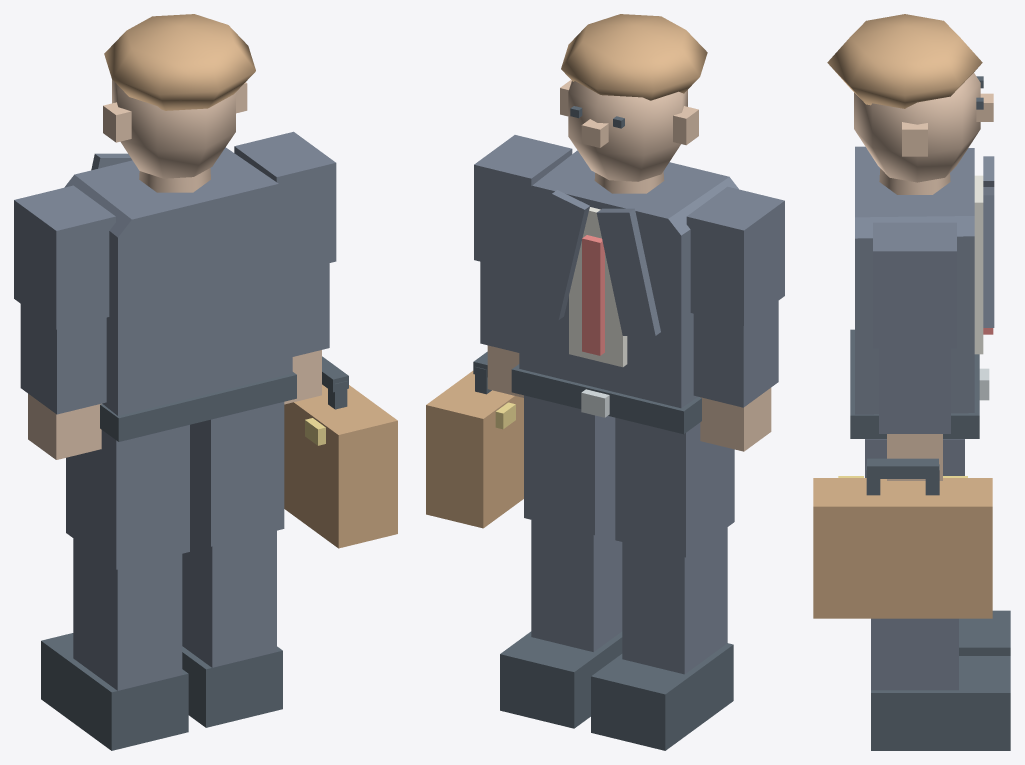
The model's file is ped_business.glb.
The picture shows the model from 3 angles, left to right: view 1: azimuth 30°, elevation 25°; view 2: azimuth 150°, elevation 25°; view 3: azimuth 270°, elevation 25°; orthographic projection. The views are drawn at different scales.
Visible parts, largest first — view 1: Torso_Mesh, Thigh (×2), Lower_Leg (×2), Upper_Arm (×2), Shoe (×2), Leather_Case, Hair, Sleeve (×2), Face, Belt, Hand (×2), Neck (+1 smaller); view 2: Thigh (×2), Lower_Leg (×2), Torso_Mesh, Upper_Arm (×2), Shoe (×2), Leather_Case, Sleeve (×2), Jacket_Lapel (×2), Hair, Face, Hand (×2), Belt (+6 smaller); view 3: Leather_Case, Torso_Mesh, Shoe (×2), Upper_Arm, Hair, Face, Lower_Leg, Sleeve, Belt, Jacket_Lapel (×2), White_Shirt, Hand (+6 smaller).
Part boxes in pixels (bbox=[...]): Torso_Mesh: bbox=[64, 147, 292, 415]; Thigh (×2): bbox=[66, 402, 284, 569]; Lower_Leg (×2): bbox=[73, 530, 276, 690]; Upper_Arm (×2): bbox=[14, 131, 336, 329]; Shoe (×2): bbox=[41, 633, 282, 750]; Leather_Case: bbox=[284, 384, 397, 548]; Hair: bbox=[104, 14, 255, 110]; Sleeve (×2): bbox=[20, 263, 329, 414]; Face: bbox=[112, 79, 235, 178]; Belt: bbox=[100, 372, 296, 441]; Hand (×2): bbox=[28, 350, 321, 459]; Neck: bbox=[139, 168, 210, 192]; Thigh (×2): bbox=[524, 395, 734, 557]; Lower_Leg (×2): bbox=[531, 520, 727, 674]; Torso_Mesh: bbox=[519, 150, 738, 408]; Upper_Arm (×2): bbox=[474, 135, 784, 325]; Shoe (×2): bbox=[500, 631, 733, 750]; Leather_Case: bbox=[426, 371, 523, 528]; Sleeve (×2): bbox=[480, 261, 778, 407]; Jacket_Lapel (×2): bbox=[526, 190, 660, 335]; Hair: bbox=[561, 14, 707, 100]; Face: bbox=[568, 81, 687, 181]; Hand (×2): bbox=[487, 345, 771, 451]; Belt: bbox=[511, 364, 701, 434]; Leather_Case: bbox=[813, 478, 992, 618]; Torso_Mesh: bbox=[855, 146, 974, 414]; Shoe (×2): bbox=[871, 610, 1010, 750]; Upper_Arm: bbox=[873, 222, 956, 348]; Hair: bbox=[827, 14, 982, 108]; Face: bbox=[854, 73, 980, 182]; Lower_Leg: bbox=[871, 618, 958, 690]; Sleeve: bbox=[879, 348, 950, 433]; Belt: bbox=[850, 329, 979, 438]; Jacket_Lapel (×2): bbox=[983, 156, 994, 327]; White_Shirt: bbox=[974, 175, 983, 354]; Hand: bbox=[887, 434, 942, 480].
Size of the model in its own units: 0.89 by 1.89 by 0.495.
